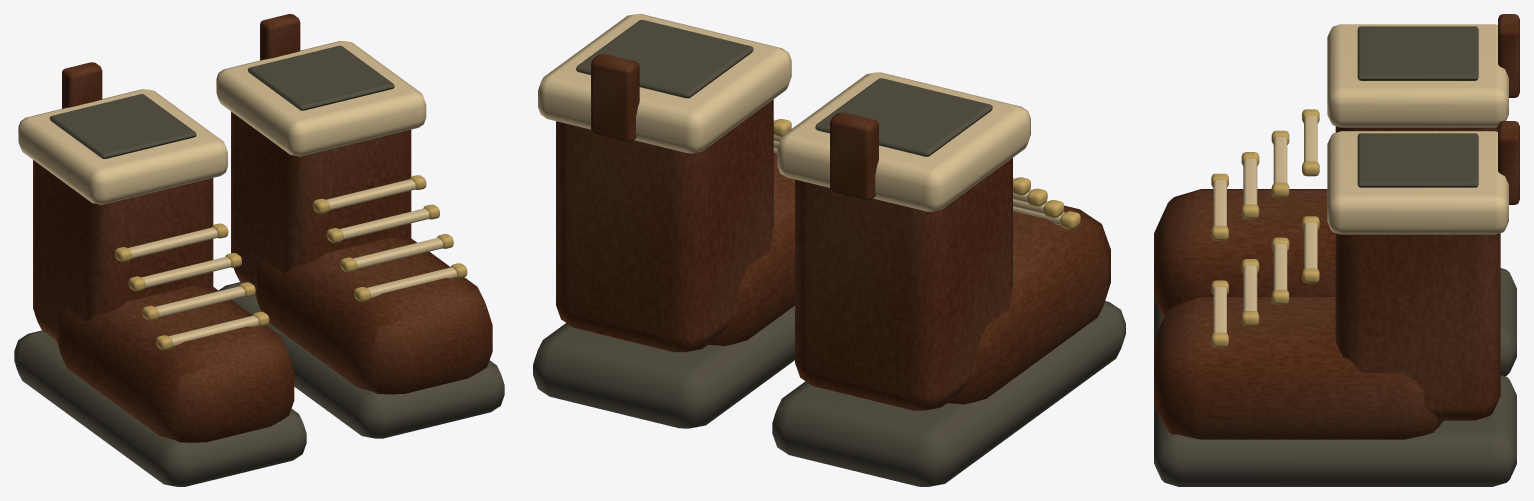
Rendered from garden-boots.glb.
The picture shows the model from 3 angles, left to right: view 1: azimuth 30°, elevation 25°; view 2: azimuth 150°, elevation 25°; view 3: azimuth 270°, elevation 25°; orthographic projection. The views are drawn at different scales.
Parts seen in each view (by area): view 1: Rounded leather toe.002, Stacked sole.002, Folded cuff.002, Brass lace eyelet.016; view 2: Rounded leather toe.002, Stacked sole.002, Folded cuff.002, Brass lace eyelet.016; view 3: Rounded leather toe.002, Stacked sole.002, Folded cuff.002, Brass lace eyelet.016.
Boxes of the visible parts, bbox=[...] form: Rounded leather toe.002: bbox=[33, 14, 492, 442]; Stacked sole.002: bbox=[14, 45, 504, 486]; Folded cuff.002: bbox=[18, 41, 456, 346]; Brass lace eyelet.016: bbox=[115, 175, 467, 349]; Rounded leather toe.002: bbox=[556, 54, 1110, 410]; Stacked sole.002: bbox=[533, 20, 1125, 486]; Folded cuff.002: bbox=[538, 14, 1065, 225]; Brass lace eyelet.016: bbox=[773, 119, 1080, 229]; Rounded leather toe.002: bbox=[1154, 14, 1519, 439]; Stacked sole.002: bbox=[1154, 26, 1516, 486]; Folded cuff.002: bbox=[1213, 24, 1508, 332]; Brass lace eyelet.016: bbox=[1211, 109, 1319, 347].
Size of the model in its own units: 0.8 by 0.66 by 0.665.
Materials: 4 (1 with a texture image).
